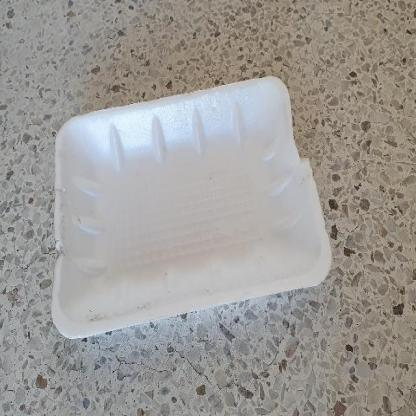Glass Cup: (52, 73, 333, 338), (51, 76, 332, 338)
